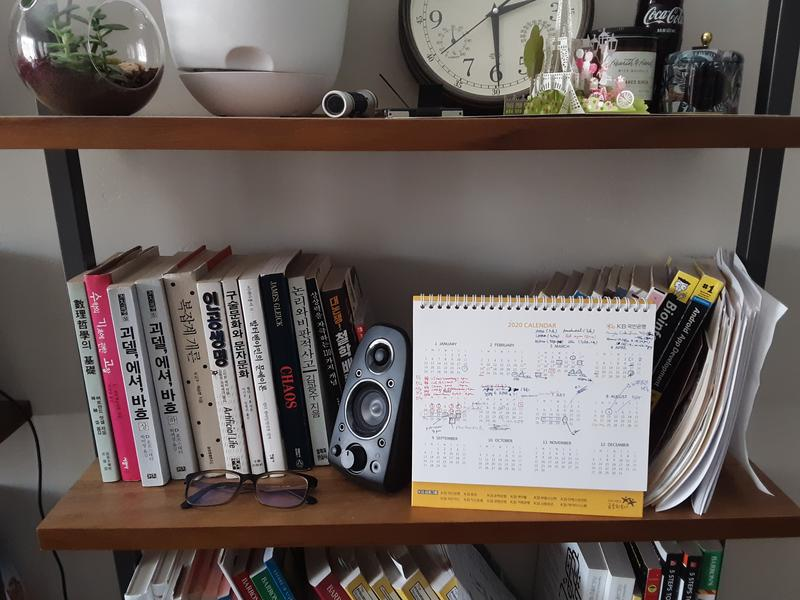glasses: (178, 469, 321, 512)
